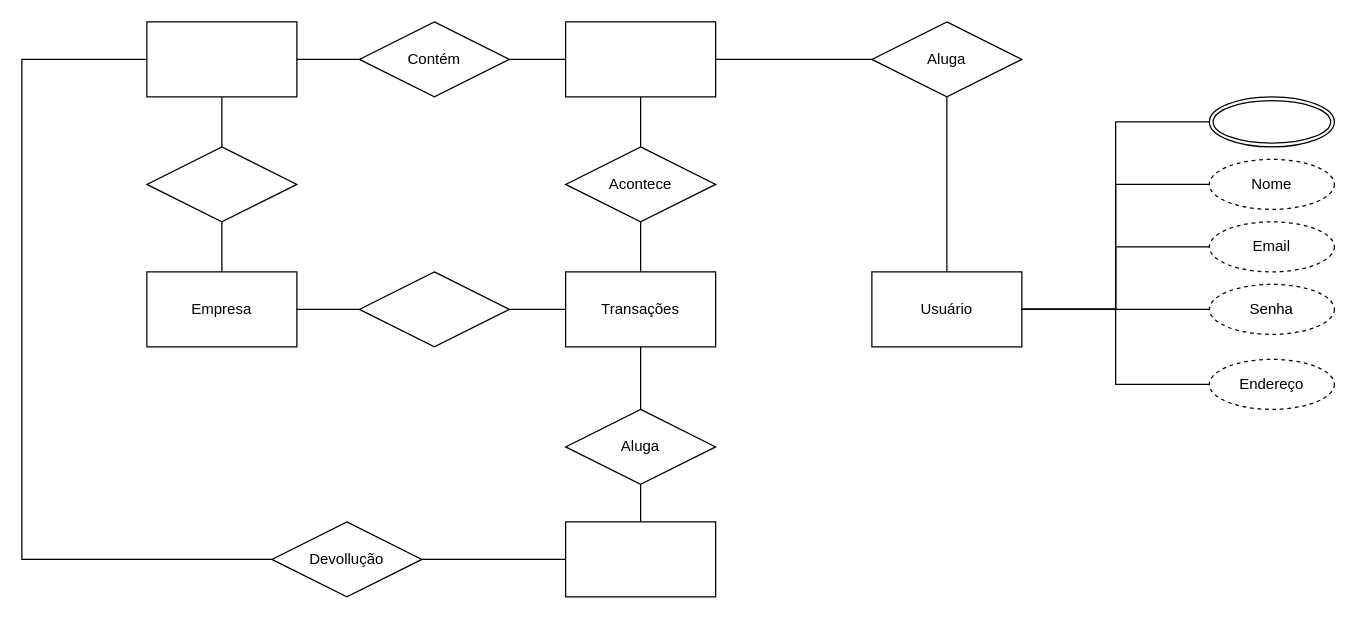
The diagram is 1356 pixels wide and 619 high, and some of its shapes have lost their labels. The shapes that lost their labels are listed below. From the top down, each one's centre as x and y in pixels, then its label:
At (221,59): "Produto".
At (640,59): "Loja".
At (1271,121): "ID".
At (221,184): "Fornece".
At (433,309): "Recebe".
At (640,559): "Produto Alugado".
